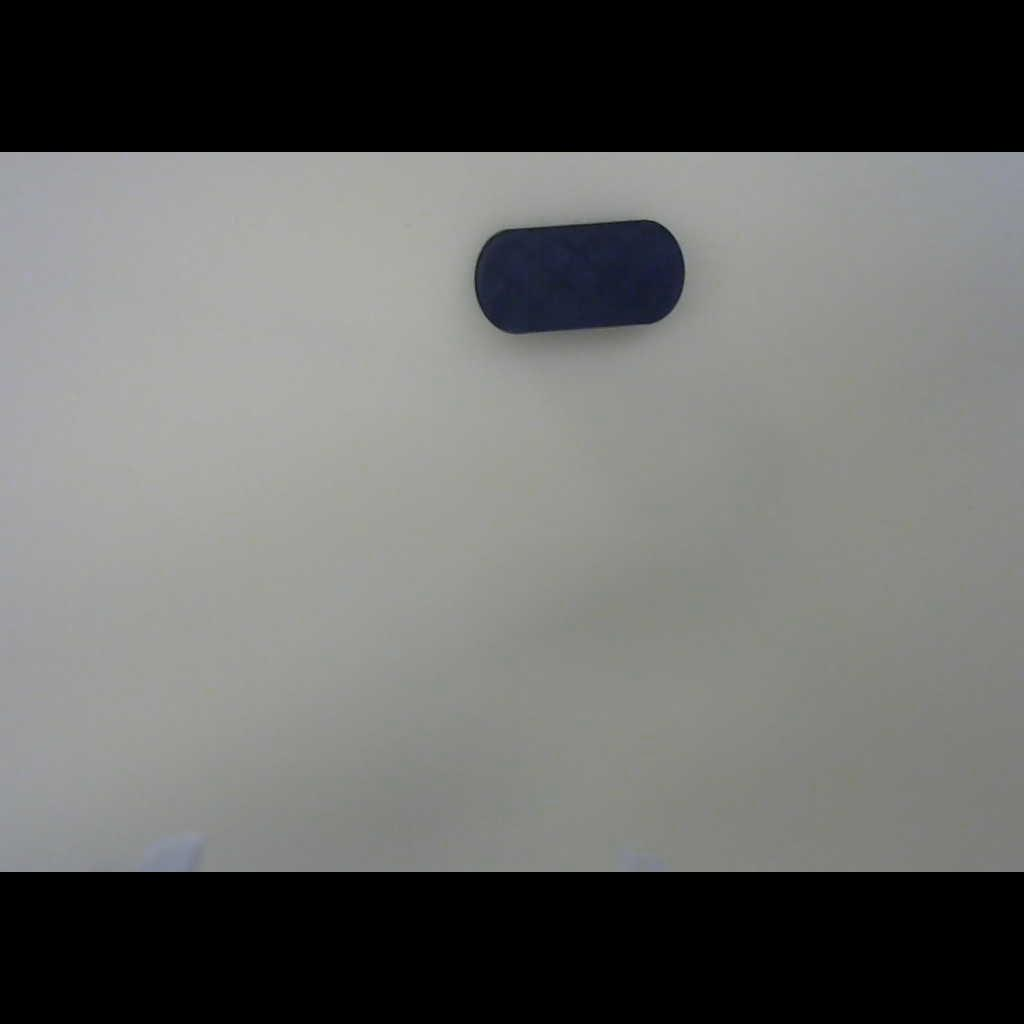oval: (470, 214, 691, 336)
